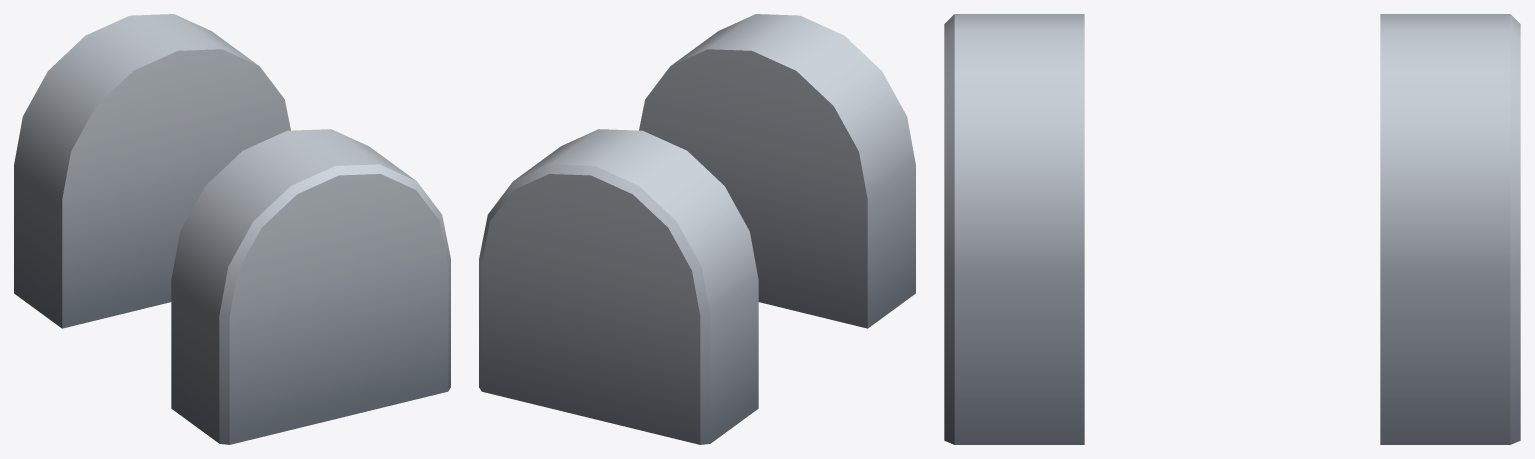
The model's file is Props-Hammer-Foundation.glb.
3 views of the same model, side by side, from view 1: azimuth 30°, elevation 25°; view 2: azimuth 150°, elevation 25°; view 3: azimuth 270°, elevation 25° (orthographic). The views are drawn at different scales.
Visible parts, largest first — view 1: Props-Hammer-Foundation; view 2: Props-Hammer-Foundation; view 3: Props-Hammer-Foundation.
Part boxes in pixels (x1=…): Props-Hammer-Foundation: x1=14, y1=14, x2=450, y2=444; Props-Hammer-Foundation: x1=479, y1=14, x2=915, y2=444; Props-Hammer-Foundation: x1=944, y1=14, x2=1520, y2=444.
Size of the model in its own units: 1.59 by 1.64 by 2.53.
Materials: 1 (1 with a texture image).
